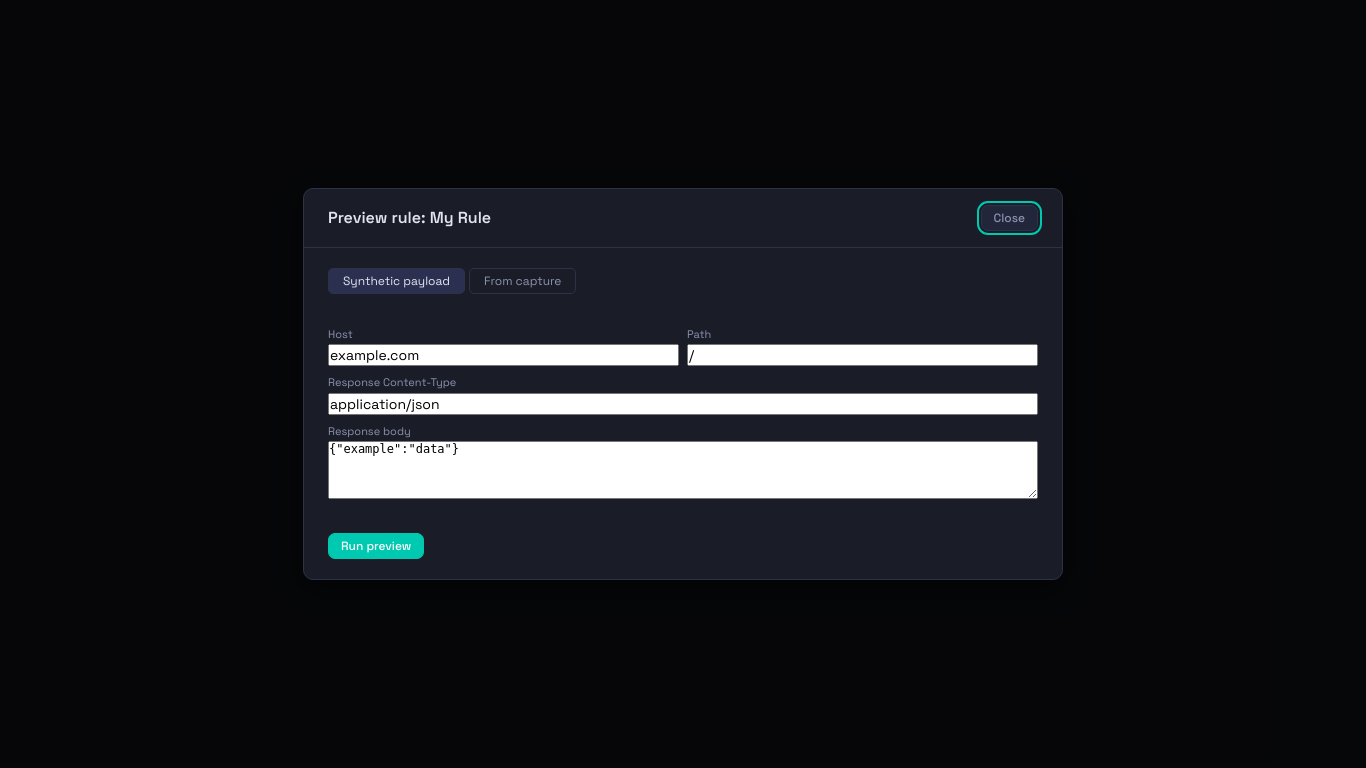
RulePreviewModal › shows error message when preview fails
Click the button "Run preview" at (376, 546), box [328,533,424,559]
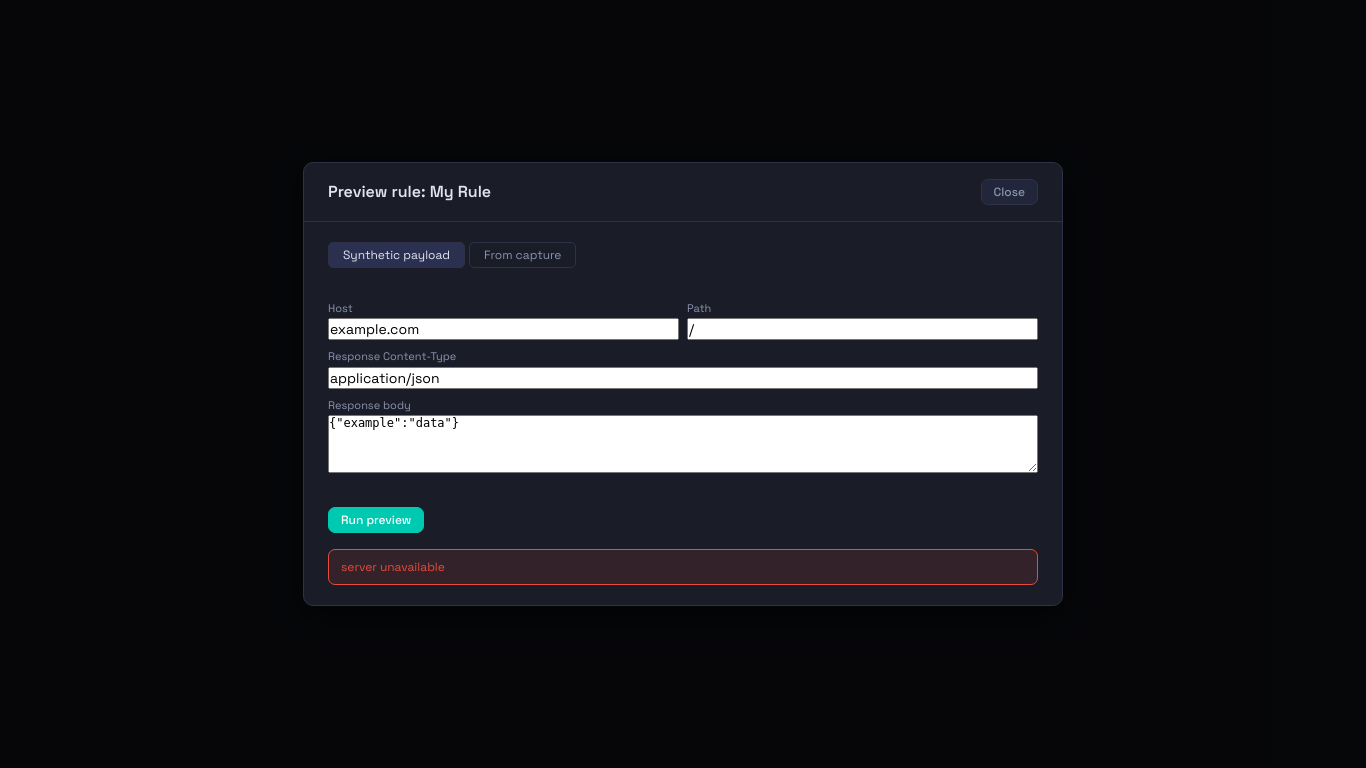
Now the text "server unavailable" is shown, box [328,549,1038,585]
